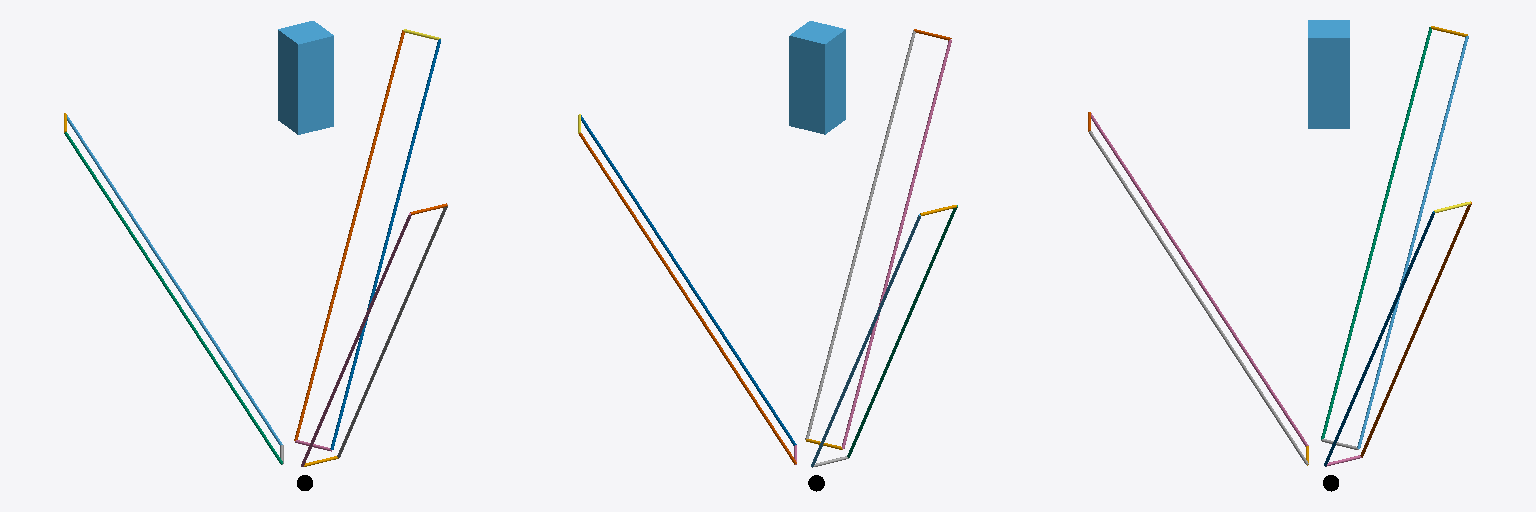
URDF robot description (delta_robot):
<?xml version="1.0" ?>
<robot name="delta_robot" xmlns:xacro="http://ros.org/wiki/xacro">
  <!-- all links -->
  <!-- all links -->
  <!-- upper leg width -->
  <!-- connector mass-->
  <!--
  <gazebo>
    <plugin filename="libcontact.so" name="my_plugin"/>
    <plugin filename="libgazebo_ros_control.so" name="gazebo_ros_control">
      <robotNamespace>/delta</robotNamespace>
    </plugin>
    <self_collide>true</self_collide>
    <enable_wind>false</enable_wind>
  </gazebo>
-->
  <!-- Used for fixing robot to Gazebo 'base_link'
  <link name="world"/>-->
  <link name="world"/>
  <joint name="base" type="fixed">
    <parent link="world"/>
    <child link="link_0"/>
    <axis xyz="0 0 0"/>
    <origin rpy="0 0 0" xyz="0 0 1.359"/>
  </joint>
  <gazebo reference="link_w_JOINT_w2">
    <physics>
      <ode>
        <provide_feedback>true</provide_feedback>
      </ode>
    </physics>
  </gazebo>
  <link name="link_0">
    <inertial>
      <origin rpy="0 0 0" xyz="-0.0 -0.0 -0.0"/>
      <mass value="0.48"/>
      <inertia ixx="0.003604" ixy="0.0" ixz="0.0" iyy="0.003604" iyz="0.0" izz="0.0072"/>
    </inertial>
    <visual>
      <origin rpy="0 0 0" xyz="-0.147 -0.085 -0.01"/>
      <geometry>
        <mesh filename="[local-path]/ros2_ws/src/delta_robot_simulation/meshes/fixed_base2.dae" scale="0.001 0.001 0.001"/>
      </geometry>
    </visual>
    <visual>
      <origin rpy="0 0 0" xyz="-0.0 0 0.06"/>
      <geometry>
        <box size="0.05 0.05 0.12  "/>
      </geometry>
    </visual>
    <collision>
      <origin rpy="0 0 0" xyz="-0.147 -0.085 -0.01"/>
      <geometry>
        <mesh filename="[local-path]/ros2_ws/src/delta_robot_simulation/meshes/fixed_base2.dae" scale="0.001 0.001 0.001"/>
      </geometry>
    </collision>
  </link>
  <gazebo reference="link_0">
    <visual>
      <material>
        <script>
          <uri>file:/[local-path]/scripts/gazebo.material</uri>
          <name>Gazebo/Red</name>
        </script>
      </material>
    </visual>
  </gazebo>
  <gazebo reference="uleg_1">
    <visual>
      <material>
        <script>
          <uri>file:/[local-path]/scripts/gazebo.material</uri>
          <name>Gazebo/Red</name>
        </script>
      </material>
    </visual>
  </gazebo>
  <gazebo reference="uleg_2">
    <visual>
      <material>
        <script>
          <uri>file:/[local-path]/scripts/gazebo.material</uri>
          <name>Gazebo/Red</name>
        </script>
      </material>
    </visual>
  </gazebo>
  <gazebo reference="uleg_3">
    <visual>
      <material>
        <script>
          <uri>file:/[local-path]/scripts/gazebo.material</uri>
          <name>Gazebo/Red</name>
        </script>
      </material>
    </visual>
  </gazebo>
  <gazebo reference="low_base">
    <visual>
      <material>
        <script>
          <uri>file:/[local-path]/scripts/gazebo.material</uri>
          <name>Gazebo/Red</name>
        </script>
      </material>
    </visual>
  </gazebo>
  <joint name="motor1" type="revolute">
    <origin rpy="0 0 0" xyz="0 -0.08585 0"/>
    <parent link="link_0"/>
    <child link="uleg_1"/>
    <limit effort="20" lower="-1.1" upper="1.1" velocity="1.57"/>
    <axis xyz="1 0 0"/>
  </joint>
  <joint name="motor2" type="revolute">
    <origin rpy="0 0 4.18879020479" xyz="-0.075 0.047925 0"/>
    <parent link="link_0"/>
    <child link="uleg_2"/>
    <limit effort="20" lower="-1.1" upper="1.1" velocity="1.57"/>
    <axis xyz="1 0 0"/>
  </joint>
  <joint name="motor3" type="revolute">
    <origin rpy="0 0 2.09439510239" xyz="0.075 0.042925 0"/>
    <parent link="link_0"/>
    <child link="uleg_3"/>
    <limit effort="20" lower="-1.1" upper="1.1" velocity="1.57"/>
    <axis xyz="1 0 0"/>
  </joint>
  <link name="uleg_1">
    <inertial>
      <origin rpy="1.57079632679 0 0" xyz="0 -0.071  0 "/>
      <mass value="0.0466"/>
      <inertia ixx="0.000165041666667" ixy="0.0" ixz="0.0" iyy="0.000165041666667" iyz="0.0" izz="1.94166666667e-05"/>
    </inertial>
    <visual>
      <origin rpy="1.57079632679 3.14159265359 1.57079632679" xyz="0 0.029 0.028 "/>
      <geometry>
        <mesh filename="[local-path]/ros2_ws/src/delta_robot_simulation/meshes/upper_leg.dae" scale="0.001 0.001 0.001"/>
      </geometry>
    </visual>
    <collision>
      <origin rpy="1.57079632679 3.14159265359 1.57079632679" xyz="0 0.029 0.025 "/>
      <geometry>
        <mesh filename="[local-path]/ros2_ws/src/delta_robot_simulation/meshes/upper_leg.dae" scale="0.001 0.001 0.001"/>
      </geometry>
    </collision>
  </link>
  <link name="uleg_2">
    <inertial>
      <origin rpy="1.57079632679 0 0" xyz="0 -0.071  0 "/>
      <mass value="0.0466"/>
      <inertia ixx="0.000165041666667" ixy="0.0" ixz="0.0" iyy="0.000165041666667" iyz="0.0" izz="1.94166666667e-05"/>
    </inertial>
    <visual>
      <origin rpy="1.57079632679 3.14159265359 1.57079632679" xyz="0 0.029 0.028 "/>
      <geometry>
        <mesh filename="[local-path]/ros2_ws/src/delta_robot_simulation/meshes/upper_leg.dae" scale="0.001 0.001 0.001"/>
      </geometry>
    </visual>
    <collision>
      <origin rpy="1.57079632679 3.14159265359 1.57079632679" xyz="0 0.029 0.025 "/>
      <geometry>
        <mesh filename="[local-path]/ros2_ws/src/delta_robot_simulation/meshes/upper_leg.dae" scale="0.001 0.001 0.001"/>
      </geometry>
    </collision>
  </link>
  <link name="uleg_3">
    <inertial>
      <origin rpy="1.57079632679 0 0" xyz="0 -0.071  0 "/>
      <mass value="0.0466"/>
      <inertia ixx="0.000165041666667" ixy="0.0" ixz="0.0" iyy="0.000165041666667" iyz="0.0" izz="1.94166666667e-05"/>
    </inertial>
    <visual>
      <origin rpy="1.57079632679 3.14159265359 1.57079632679" xyz="0 0.029 0.028 "/>
      <geometry>
        <mesh filename="[local-path]/ros2_ws/src/delta_robot_simulation/meshes/upper_leg.dae" scale="0.001 0.001 0.001"/>
      </geometry>
    </visual>
    <collision>
      <origin rpy="1.57079632679 3.14159265359 1.57079632679" xyz="0 0.029 0.025 "/>
      <geometry>
        <mesh filename="[local-path]/ros2_ws/src/delta_robot_simulation/meshes/upper_leg.dae" scale="0.001 0.001 0.001"/>
      </geometry>
    </collision>
  </link>
  <joint name="uleg1_con" type="continuous">
    <origin rpy="0.534996326795 0 0" xyz="0 -0.2 0"/>
    <parent link="uleg_1"/>
    <child link="con1"/>
    <axis xyz="1 0 0"/>
  </joint>
  <link name="con1">
    <inertial>
      <origin rpy="0 1.57079632679 0" xyz="0.005 0 0 "/>
      <mass value="0.0173"/>
      <inertia ixx="3.60993333333e-06" ixy="0.0" ixz="0.0" iyy="3.60993333333e-06" iyz="0.0" izz="1.15333333333e-08"/>
    </inertial>
    <visual>
      <origin rpy="0 1.57079632679 0" xyz="0.005 0 0 "/>
      <geometry>
        <cylinder length="0.05" radius="0.002"/>
      </geometry>
    </visual>
    <collision>
      <origin rpy="0 1.57079632679 0 " xyz="0.005 0 0 "/>
      <geometry>
        <cylinder length="0.05" radius="0.002"/>
      </geometry>
    </collision>
  </link>
  <joint name="con_lleg_1" type="continuous">
    <origin rpy="0 0 0" xyz="-0.02 0 0"/>
    <parent link="con1"/>
    <child link="lleg_1"/>
    <axis xyz="0 1 0"/>
  </joint>
  <link name="lleg_1">
    <inertial>
      <origin rpy="0 0 0" xyz="0 0 -0.255 "/>
      <mass value="0.04"/>
      <inertia ixx="0.000867013333333" ixy="0.0" ixz="0.0" iyy="0.000867013333333" iyz="0.0" izz="2.66666666667e-08"/>
    </inertial>
    <visual>
      <origin rpy="0 0 0" xyz=" 0 0 -0.255 "/>
      <geometry>
        <cylinder length="0.51" radius="0.002"/>
      </geometry>
    </visual>
    <collision>
      <origin rpy="0 0 0 " xyz="0 0 -0.255 "/>
      <geometry>
        <cylinder length="0.51" radius="0.002"/>
      </geometry>
    </collision>
  </link>
  <joint name="con2_lleg_1" type="continuous">
    <origin rpy="0 0 0" xyz="0.03 0 0"/>
    <parent link="con1"/>
    <child link="lleg_12"/>
    <mimic joint="con_lleg_1"/>
    <axis xyz="0 1 0"/>
  </joint>
  <link name="lleg_12">
    <inertial>
      <origin rpy="0 0 0" xyz="0 0 -0.255 "/>
      <mass value="0.04"/>
      <inertia ixx="0.000867013333333" ixy="0.0" ixz="0.0" iyy="0.000867013333333" iyz="0.0" izz="2.66666666667e-08"/>
    </inertial>
    <visual>
      <origin rpy="0 0 0" xyz=" 0 0 -0.255 "/>
      <geometry>
        <cylinder length="0.51" radius="0.002"/>
      </geometry>
    </visual>
    <collision>
      <origin rpy="0 0 0 " xyz="0 0 -0.255 "/>
      <geometry>
        <cylinder length="0.51" radius="0.002"/>
      </geometry>
    </collision>
  </link>
  <joint name="uleg2_con" type="continuous">
    <origin rpy="0.534996326795 0 0" xyz="0 -0.2 0"/>
    <parent link="uleg_2"/>
    <child link="con2"/>
    <axis xyz="1 0 0"/>
  </joint>
  <link name="con2">
    <inertial>
      <origin rpy="0 1.57079632679 0" xyz="0.005 0 0 "/>
      <mass value="0.0173"/>
      <inertia ixx="3.60993333333e-06" ixy="0.0" ixz="0.0" iyy="3.60993333333e-06" iyz="0.0" izz="1.15333333333e-08"/>
    </inertial>
    <visual>
      <origin rpy="0 1.57079632679 0" xyz="0.005 0 0 "/>
      <geometry>
        <cylinder length="0.05" radius="0.002"/>
      </geometry>
    </visual>
    <collision>
      <origin rpy="0 1.57079632679 0 " xyz="0.005 0 0 "/>
      <geometry>
        <cylinder length="0.05" radius="0.002"/>
      </geometry>
    </collision>
  </link>
  <joint name="con_lleg_2" type="continuous">
    <origin rpy="0 0 0" xyz="-0.02 0 0"/>
    <parent link="con2"/>
    <child link="lleg_2"/>
    <axis xyz="0 1 0"/>
  </joint>
  <link name="lleg_2">
    <inertial>
      <origin rpy="0 0 0" xyz="0 0 -0.255 "/>
      <mass value="0.04"/>
      <inertia ixx="0.000867013333333" ixy="0.0" ixz="0.0" iyy="0.000867013333333" iyz="0.0" izz="2.66666666667e-08"/>
    </inertial>
    <visual>
      <origin rpy="0 0 0" xyz=" 0 0 -0.255 "/>
      <geometry>
        <cylinder length="0.51" radius="0.002"/>
      </geometry>
    </visual>
    <collision>
      <origin rpy="0 0 0 " xyz="0 0 -0.255 "/>
      <geometry>
        <cylinder length="0.51" radius="0.002"/>
      </geometry>
    </collision>
  </link>
  <joint name="con2_lleg_2" type="continuous">
    <origin rpy="0 0 0" xyz="0.03 0 0"/>
    <parent link="con2"/>
    <child link="lleg_22"/>
    <axis xyz="0 1 0"/>
  </joint>
  <link name="lleg_22">
    <inertial>
      <origin rpy="0 0 0" xyz="0 0 -0.255 "/>
      <mass value="0.04"/>
      <inertia ixx="0.000867013333333" ixy="0.0" ixz="0.0" iyy="0.000867013333333" iyz="0.0" izz="2.66666666667e-08"/>
    </inertial>
    <visual>
      <origin rpy="0 0 0" xyz=" 0 0 -0.255 "/>
      <geometry>
        <cylinder length="0.51" radius="0.002"/>
      </geometry>
    </visual>
    <collision>
      <origin rpy="0 0 0 " xyz="0 0 -0.255 "/>
      <geometry>
        <cylinder length="0.51" radius="0.002"/>
      </geometry>
    </collision>
  </link>
  <joint name="uleg3_con" type="continuous">
    <origin rpy="0.534996326795 0 0" xyz="0 -0.2 0"/>
    <parent link="uleg_3"/>
    <child link="con3"/>
    <axis xyz="1 0 0"/>
  </joint>
  <link name="con3">
    <inertial>
      <origin rpy="0 1.57079632679 0" xyz="0.005 0 0 "/>
      <mass value="0.0173"/>
      <inertia ixx="3.60993333333e-06" ixy="0.0" ixz="0.0" iyy="3.60993333333e-06" iyz="0.0" izz="1.15333333333e-08"/>
    </inertial>
    <visual>
      <origin rpy="0 1.57079632679 0" xyz="0.005 0 0 "/>
      <geometry>
        <cylinder length="0.05" radius="0.002"/>
      </geometry>
    </visual>
    <collision>
      <origin rpy="0 1.57079632679 0 " xyz="0.005 0 0 "/>
      <geometry>
        <cylinder length="0.05" radius="0.002"/>
      </geometry>
    </collision>
  </link>
  <joint name="con_lleg_3" type="continuous">
    <origin rpy="0 0 0" xyz="-0.02 0 0"/>
    <parent link="con3"/>
    <child link="lleg_3"/>
    <axis xyz="0 1 0"/>
  </joint>
  <link name="lleg_3">
    <inertial>
      <origin rpy="0 0 0" xyz="0 0 -0.255 "/>
      <mass value="0.04"/>
      <inertia ixx="0.000867013333333" ixy="0.0" ixz="0.0" iyy="0.000867013333333" iyz="0.0" izz="2.66666666667e-08"/>
    </inertial>
    <visual>
      <origin rpy="0 0 0" xyz=" 0 0 -0.255 "/>
      <geometry>
        <cylinder length="0.51" radius="0.002"/>
      </geometry>
    </visual>
    <collision>
      <origin rpy="0 0 0 " xyz="0 0 -0.255 "/>
      <geometry>
        <cylinder length="0.51" radius="0.002"/>
      </geometry>
    </collision>
  </link>
  <joint name="con2_lleg_3" type="continuous">
    <origin rpy="0 0 0" xyz="0.03 0 0"/>
    <parent link="con3"/>
    <child link="lleg_32"/>
    <axis xyz="0 1 0"/>
  </joint>
  <link name="lleg_32">
    <inertial>
      <origin rpy="0 0 0" xyz="0 0 -0.255 "/>
      <mass value="0.04"/>
      <inertia ixx="0.000867013333333" ixy="0.0" ixz="0.0" iyy="0.000867013333333" iyz="0.0" izz="2.66666666667e-08"/>
    </inertial>
    <visual>
      <origin rpy="0 0 0" xyz=" 0 0 -0.255 "/>
      <geometry>
        <cylinder length="0.51" radius="0.002"/>
      </geometry>
    </visual>
    <collision>
      <origin rpy="0 0 0 " xyz="0 0 -0.255 "/>
      <geometry>
        <cylinder length="0.51" radius="0.002"/>
      </geometry>
    </collision>
  </link>
  <joint name="con33_lleg_3" type="continuous">
    <origin rpy="0 0 0" xyz="0 0 -0.51"/>
    <parent link="lleg_32"/>
    <child link="con33"/>
    <axis xyz="0 1 0"/>
  </joint>
  <link name="con33">
    <inertial>
      <origin rpy="0 1.57079632679 0" xyz="-0.025  0 0 "/>
      <mass value="0.0173"/>
      <inertia ixx="3.60993333333e-06" ixy="0.0" ixz="0.0" iyy="3.60993333333e-06" iyz="0.0" izz="1.15333333333e-08"/>
    </inertial>
    <visual>
      <origin rpy="0 1.57079632679 0" xyz="-0.025 0 0  "/>
      <geometry>
        <cylinder length="0.05" radius="0.002"/>
      </geometry>
    </visual>
    <collision>
      <origin rpy="0 1.57079632679 0 " xyz="-0.025 0  0 "/>
      <geometry>
        <cylinder length="0.05" radius="0.002"/>
      </geometry>
    </collision>
  </link>
  <joint name="con23_lleg_2" type="continuous">
    <origin rpy="0 0 0" xyz="0 0 -0.51"/>
    <parent link="lleg_22"/>
    <child link="con23"/>
    <axis xyz="0 1 0"/>
  </joint>
  <link name="con23">
    <inertial>
      <origin rpy="0 1.57079632679 0" xyz="-0.025  0 0 "/>
      <mass value="0.0173"/>
      <inertia ixx="3.60993333333e-06" ixy="0.0" ixz="0.0" iyy="3.60993333333e-06" iyz="0.0" izz="1.15333333333e-08"/>
    </inertial>
    <visual>
      <origin rpy="0 1.57079632679 0" xyz="-0.025 0 0  "/>
      <geometry>
        <cylinder length="0.05" radius="0.002"/>
      </geometry>
    </visual>
    <collision>
      <origin rpy="0 1.57079632679 0 " xyz="-0.025 0  0 "/>
      <geometry>
        <cylinder length="0.05" radius="0.002"/>
      </geometry>
    </collision>
  </link>
  <joint name="con13_lleg_1" type="continuous">
    <origin rpy="0 0 0" xyz="0 0 -0.51"/>
    <parent link="lleg_12"/>
    <child link="con13"/>
    <axis xyz="0 1 0"/>
  </joint>
  <link name="con13">
    <inertial>
      <origin rpy="0 1.57079632679 0" xyz="-0.025  0 0 "/>
      <mass value="0.0173"/>
      <inertia ixx="3.60993333333e-06" ixy="0.0" ixz="0.0" iyy="3.60993333333e-06" iyz="0.0" izz="1.15333333333e-08"/>
    </inertial>
    <visual>
      <origin rpy="0 1.57079632679 0" xyz="-0.025 0 0  "/>
      <geometry>
        <cylinder length="0.05" radius="0.002"/>
      </geometry>
    </visual>
    <collision>
      <origin rpy="0 1.57079632679 0 " xyz="-0.025 0  0 "/>
      <geometry>
        <cylinder length="0.05" radius="0.002"/>
      </geometry>
    </collision>
  </link>
  <joint name="lleg1_base" type="continuous">
    <origin rpy="-0.5 0 0" xyz=" 0 0 0"/>
    <parent link="con13"/>
    <child link="low_base"/>
    <axis xyz="1 0 0"/>
  </joint>
  <link name="low_base">
    <inertial>
      <origin rpy="0 -0 0" xyz="-0.03 0.03 0"/>
      <mass value="0.014"/> <!-- 0.03-->
      <inertia ixx="4.5e-06" ixy="0.0" ixz="0.0" iyy="4.5e-06" iyz="0.0" izz="4.5e-06"/>
    </inertial>
    <visual>
      <origin rpy="0 -0 0" xyz="-0.07 -0.015 -0.012"/>
      <geometry>
        <mesh filename="[local-path]/ros2_ws/src/delta_robot_simulation/meshes/Platform.dae" scale="0.001 0.001 0.001"/>
      </geometry>
    </visual>
  </link>
  <gazebo>
    <joint name="lleg2_base" type="revolute">
      <child>con23</child>
      <parent>low_base</parent>
      <pose> 0 0 0 0 0 0 </pose>
      <axis>
        <xyz>1 0 0</xyz>
        <limit>
          <lower>-100</lower>
          <upper>100</upper>
        </limit>
        <dynamics>
          <spring_reference>0</spring_reference>
          <spring_stiffness>0</spring_stiffness>
          <damping>0.000000</damping>
          <friction>0.00030000</friction>
        </dynamics>
        <use_parent_model_frame>0</use_parent_model_frame>
      </axis>
    </joint>
    <joint name="lleg3_base" type="revolute">
      <child>con33</child>
      <parent>low_base</parent>
      <pose> 0 0 0 0 0 0 </pose>
      <axis>
        <xyz>1 0 0</xyz>
        <limit>
          <lower>-100</lower>
          <upper>100</upper>
        </limit>
        <dynamics>
          <spring_reference>0</spring_reference>
          <spring_stiffness>0</spring_stiffness>
          <damping>0.000000</damping>
          <friction>0.00030000</friction>
        </dynamics>
        <use_parent_model_frame>0</use_parent_model_frame>
      </axis>
    </joint>
    <joint name="con13_lleg_12" type="revolute">
      <child>con13</child>
      <parent>lleg_1</parent>
      <pose> -0.05 0 0 0 0 0 </pose>
      <axis>
        <xyz>0 1 0</xyz>
        <limit>
          <lower>-100</lower>
          <upper>100</upper>
        </limit>
        <dynamics>
          <spring_reference>0</spring_reference>
          <spring_stiffness>0</spring_stiffness>
          <damping>0.000000</damping>
          <friction>0.00030000</friction>
        </dynamics>
        <use_parent_model_frame>0</use_parent_model_frame>
      </axis>
    </joint>
    <joint name="con23_lleg_22" type="revolute">
      <child>con23</child>
      <parent>lleg_2</parent>
      <pose> -0.05 0 0 0 0 0 </pose>
      <axis>
        <xyz>0 1 0</xyz>
        <limit>
          <lower>-100</lower>
          <upper>100</upper>
        </limit>
        <dynamics>
          <spring_reference>0</spring_reference>
          <spring_stiffness>0</spring_stiffness>
          <damping>0.000000</damping>
          <friction>0.00030000</friction>
        </dynamics>
        <use_parent_model_frame>0</use_parent_model_frame>
      </axis>
    </joint>
    <joint name="con33_lleg_32" type="revolute">
      <child>con33</child>
      <parent>lleg_3</parent>
      <pose> -0.05 0 0 0 0 0 </pose>
      <axis>
        <xyz>0 1 0</xyz>
        <limit>
          <lower>-100</lower>
          <upper>100</upper>
        </limit>
        <dynamics>
          <spring_reference>0</spring_reference>
          <spring_stiffness>0</spring_stiffness>
          <damping>0.000000</damping>
          <friction>0.00030000</friction>
        </dynamics>
        <use_parent_model_frame>0</use_parent_model_frame>
      </axis>
    </joint>

  </gazebo>
  <transmission name="uleg_1_trans">
    <type>transmission_interface/SimpleTransmission</type>
    <joint name="motor1">
      <hardwareInterface>hardware_interface/PositionJointInterface</hardwareInterface>
    </joint>
    <actuator name="uleg_1_motor1">
      <mechanicalReduction>1</mechanicalReduction>
    </actuator>
  </transmission>
  <transmission name="uleg_2_trans">
    <type>transmission_interface/SimpleTransmission</type>
    <joint name="motor2">
      <hardwareInterface>hardware_interface/PositionJointInterface</hardwareInterface>
    </joint>
    <actuator name="uleg_2_motor2">
      <mechanicalReduction>1</mechanicalReduction>
    </actuator>
  </transmission>
  <transmission name="uleg_3_trans">
    <type>transmission_interface/SimpleTransmission</type>
    <joint name="motor3">
      <hardwareInterface>hardware_interface/PositionJointInterface</hardwareInterface>
    </joint>
    <actuator name="uleg_3_motor3">
      <mechanicalReduction>1</mechanicalReduction>
    </actuator>
  </transmission>

    <link name="ee_link">
      <visual>
        <geometry>
          <sphere radius="0.01"/>
        </geometry>
        <material name="Gazebo/Grey">
          <color rgba="0. 0. 0. 1"/>
        </material>
      </visual>
    </link>
    <gazebo reference="ee_link">
      <material>Gazebo/Blue</material>
      <selfCollide>False</selfCollide>
    </gazebo>
    <joint name="ee_link" type="fixed">
      <origin rpy="0 -1.57 0" xyz="-0.03 0.027 -0.04"/>
      <parent link="low_base"/>
      <child link="ee_link"/>
    </joint>

  <!-- Add Goal point in environment wrt word -->
  <!--
    <link name="goal_point">
      <visual>
        <geometry>
          <sphere radius="0.01"/>
        </geometry>
        <material name="Gazebo/Grey">
          <color rgba="0. 1. 0. 1"/>
        </material>
      </visual>
    </link>
    <gazebo reference="goal_point">
      <material>Gazebo/Blue</material>
      <selfCollide>False</selfCollide>
    </gazebo>
    <joint name= "link_0__goal_point" type="fixed">
      <origin rpy="0 0 0" xyz="0.2 0.2 -0.5"/>
      <parent link="link_0"/>
      <child link="goal_point"/>
    </joint>
  -->

  <gazebo>      
    <plugin name="joint_state_publisher" filename="libgazebo_ros_joint_state_publisher.so">
      <robotNamespace>delta_robot</robotNamespace>
      <joint_name>motor1</joint_name>
      <joint_name>motor2</joint_name>
      <joint_name>motor3</joint_name>
      <updateRate>100</updateRate>
      <alwaysOn>true</alwaysOn>
    </plugin>
  </gazebo>

  <gazebo>      
    <plugin name="gazebo_ros_joint_pose_trajectory" filename="libgazebo_ros_joint_pose_trajectory.so">
      <robotNamespace>delta_robot</robotNamespace>
      <updateRate>2</updateRate>
    </plugin>
  </gazebo>

</robot>

--- Facts derived from the render (not from the file) ---
Views: 3 orthographic renders of the robot side by side, from view 1: azimuth 30°, elevation 25°; view 2: azimuth 150°, elevation 25°; view 3: azimuth 270°, elevation 25°.
Model delta_robot with 19 links and 18 joints (3 revolute, 13 continuous, 2 fixed), rooted at world, posed every joint at zero.
Visible links, largest first — view 1: link_0, lleg_32, lleg_3, lleg_22, lleg_2, lleg_1, lleg_12; view 2: link_0, lleg_12, lleg_1, lleg_32, lleg_3, lleg_2, lleg_22; view 3: link_0, lleg_22, lleg_2, lleg_12, lleg_1, lleg_3, lleg_32.
Boxes of the visible links, <box> form: link_0: <box>278,21,333,134</box>; lleg_32: <box>294,30,404,440</box>; lleg_3: <box>330,39,440,449</box>; lleg_22: <box>64,132,282,464</box>; lleg_2: <box>67,115,282,445</box>; lleg_1: <box>301,213,411,466</box>; lleg_12: <box>337,204,447,457</box>; link_0: <box>789,21,845,134</box>; lleg_12: <box>805,30,915,439</box>; lleg_1: <box>842,39,951,448</box>; lleg_32: <box>579,133,796,464</box>; lleg_3: <box>581,115,796,445</box>; lleg_2: <box>811,214,920,466</box>; lleg_22: <box>847,205,957,457</box>; link_0: <box>1308,20,1349,128</box>; lleg_22: <box>1321,27,1431,439</box>; lleg_2: <box>1357,36,1468,448</box>; lleg_12: <box>1089,131,1308,464</box>; lleg_1: <box>1091,113,1308,446</box>; lleg_3: <box>1324,211,1434,466</box>; lleg_32: <box>1360,202,1471,457</box>.
Size in the robot's own frame: 0.525 by 0.4587 by 0.6078 metres.
Geometry: only primitive shapes (box / cylinder / sphere) drawn; not drawn: 5 mesh visuals (reference in a form the renderer does not follow).
